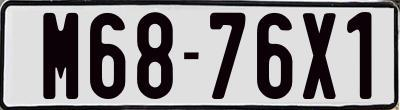1: (344, 11, 370, 101)
6: (90, 13, 127, 105), (257, 13, 296, 99)
7: (208, 11, 246, 98)
8: (135, 9, 172, 101)
M: (43, 13, 81, 105)
X: (302, 11, 340, 97)
